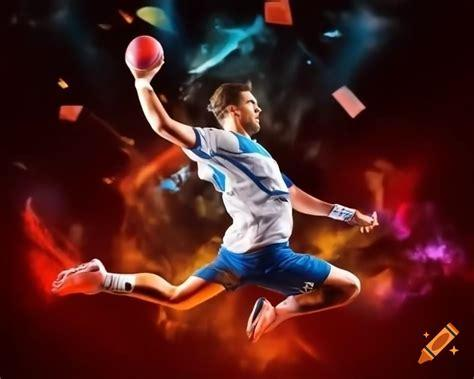ballon_handball: (124, 34, 165, 73)
